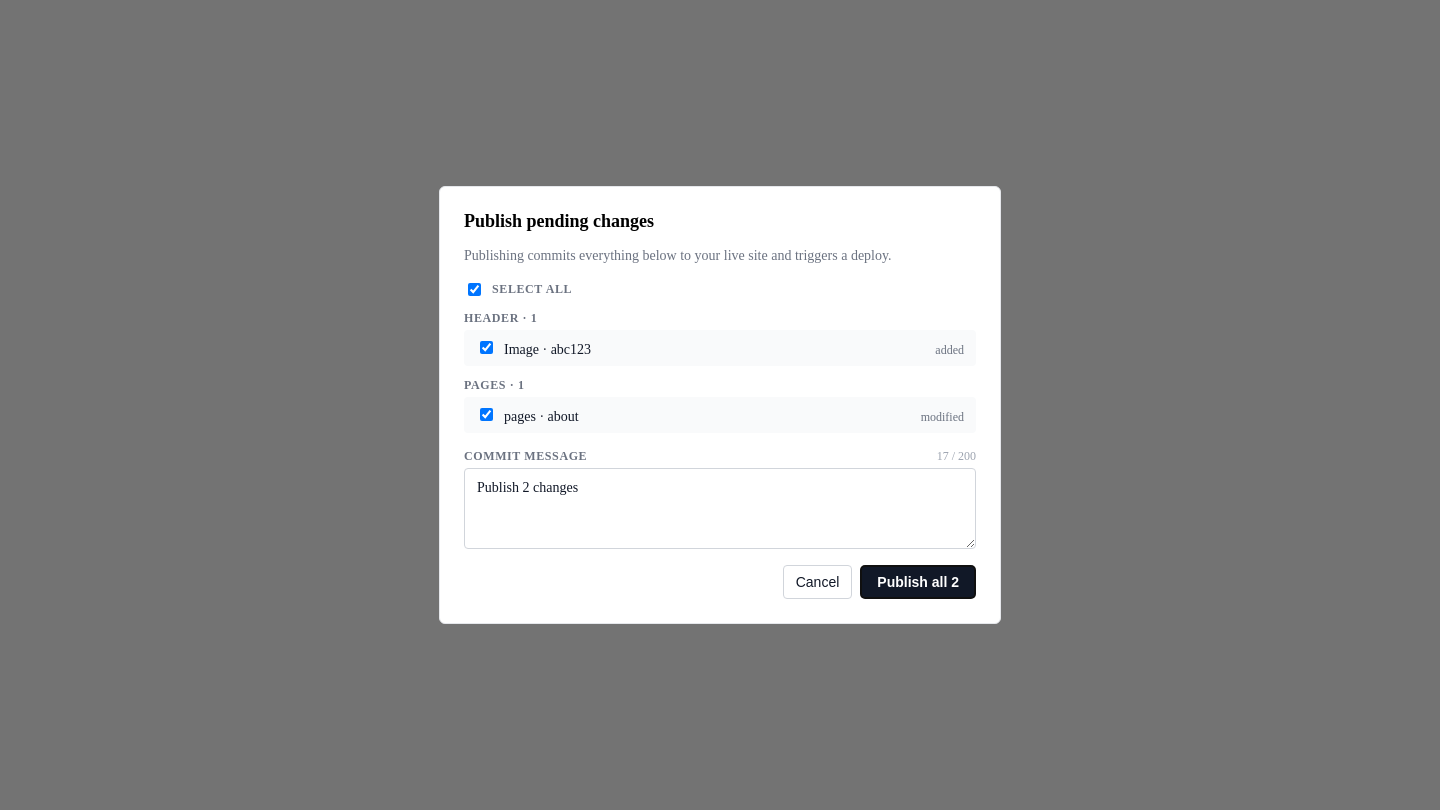
PublishConfirmModal › shows Reset when the artist clears the field entirely
This screenshot has width=1440, height=810.
Clear the text box labelled "Commit message" at (720, 508), box [464,468,976,549]
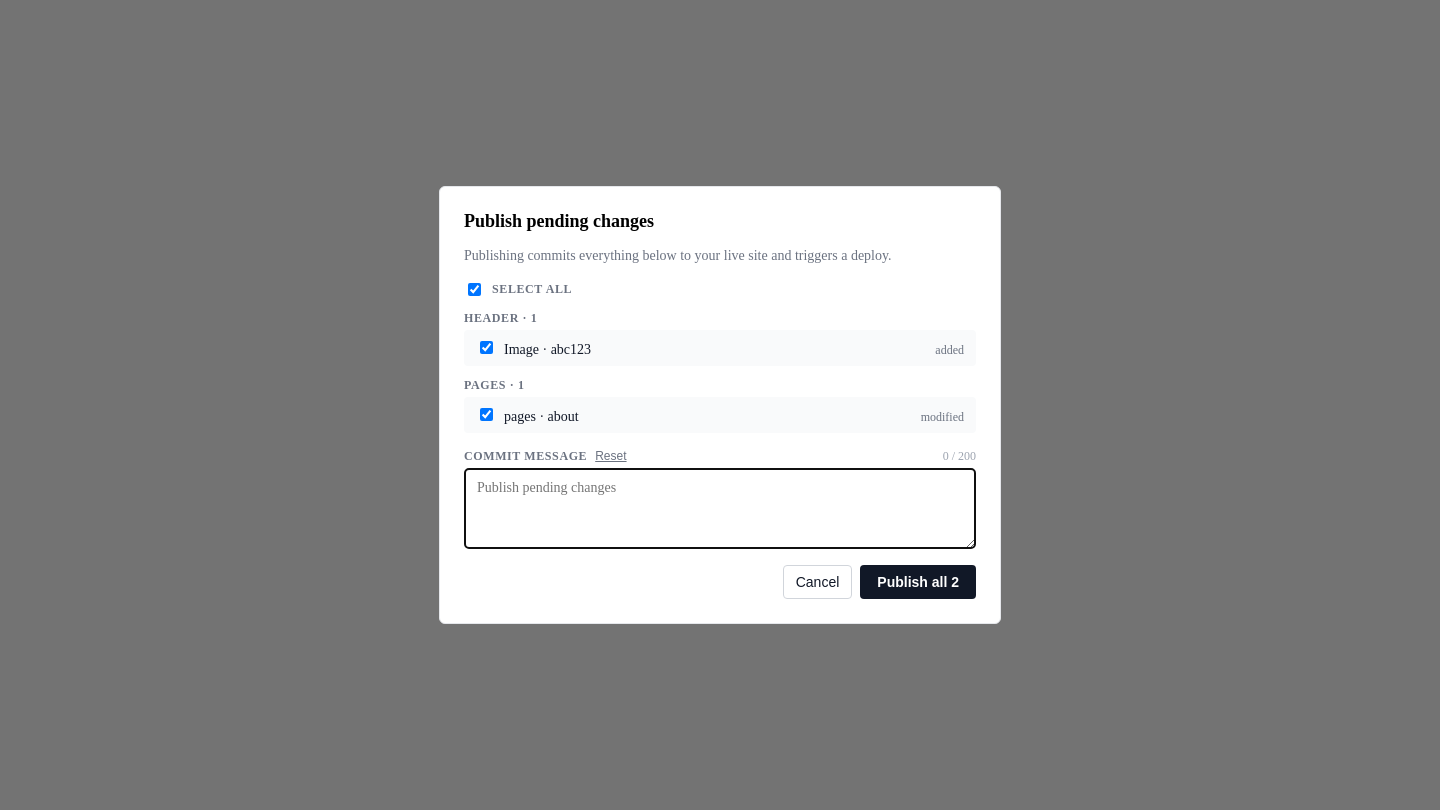
Expected: the button "Reset" is shown, [595,449,627,463]
